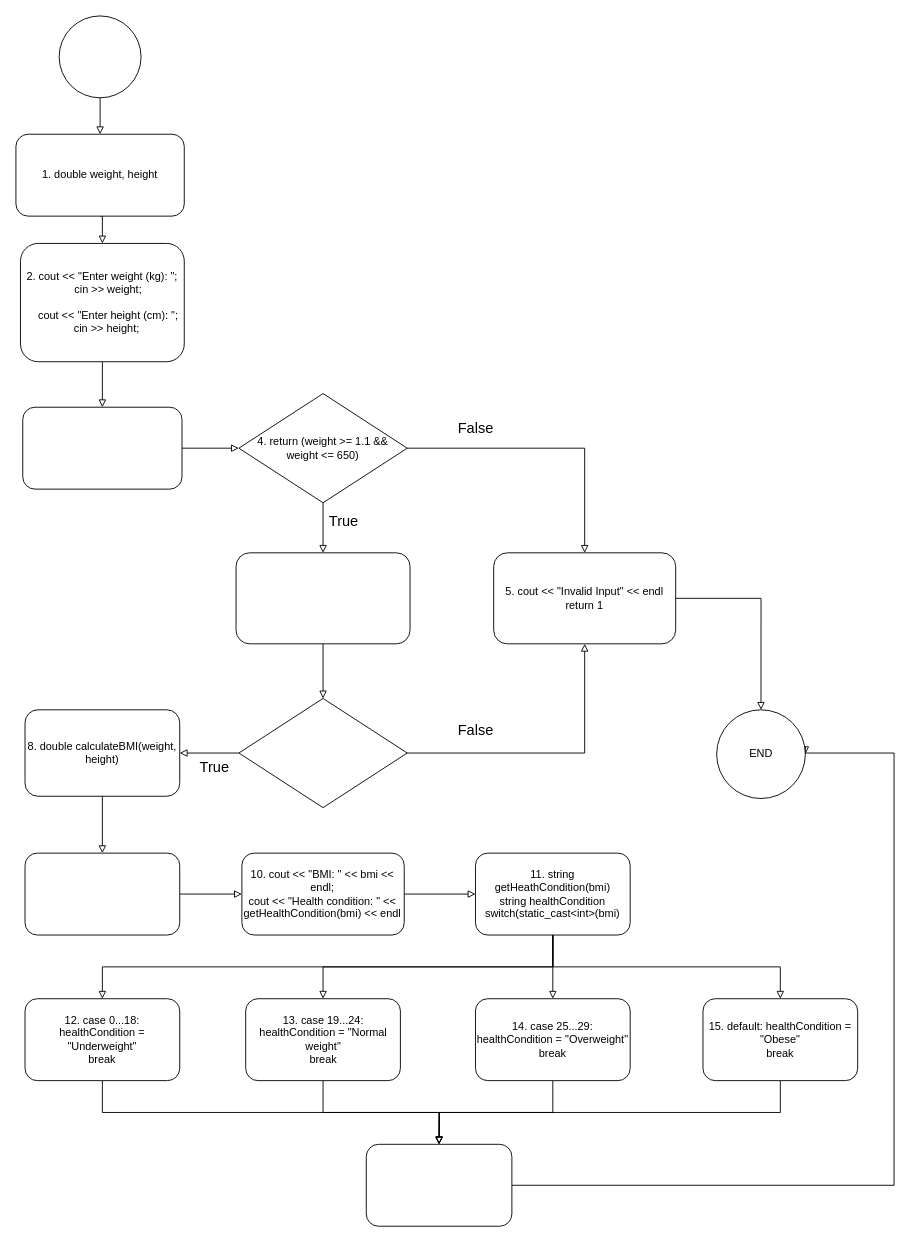
The diagram is 917 pixels wide and 1242 high, and some of its shapes have lost their labels. Here are the shapes that lost their labels. From the top down, the box of each, then its label:
(58, 15, 141, 98): START
(22, 406, 182, 489): 3. bool isValidWeight(weight)
(235, 552, 410, 644): 6. bool isValidHeight(height)
(238, 698, 407, 808): 7. return (weight >= 1.1 && weight <= 650)
(24, 852, 180, 935): 9. double bmi = weight / pow(height, 2)
(365, 1143, 512, 1226): 16. return 0
